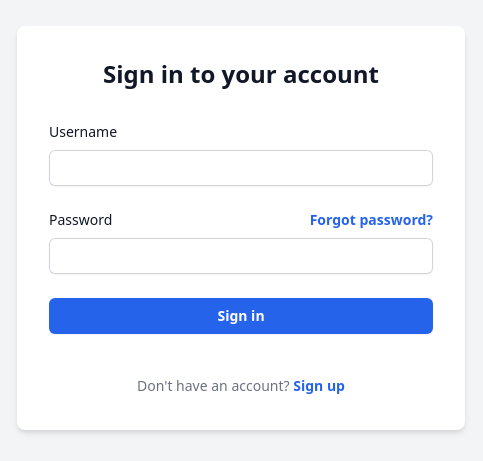
SignIn Component › should show an error message when sign in fails
The width and height of the screenshot is (483, 461).
Type "wronguser" into the field labelled "Username".
click(241, 168); type("wronguser")  # box [49, 150, 433, 186]
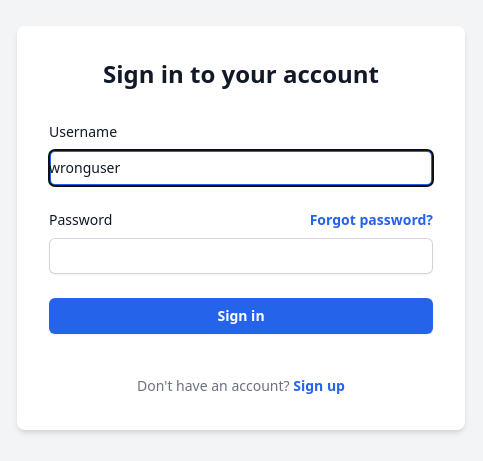
Type "wrongpassword" into the password field labelled "Password".
click(241, 256); type("wrongpassword")  # box [49, 238, 433, 274]
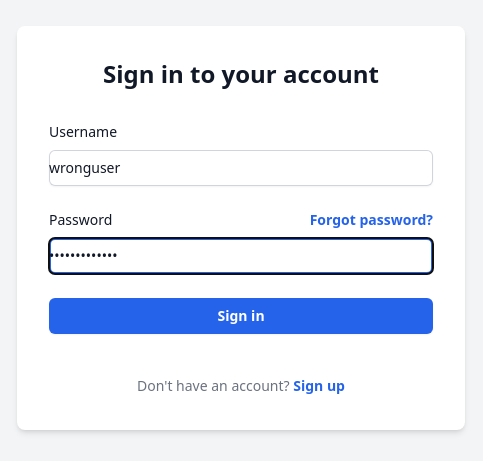
Click the button "Sign in".
click(241, 316)  # box [49, 298, 433, 334]
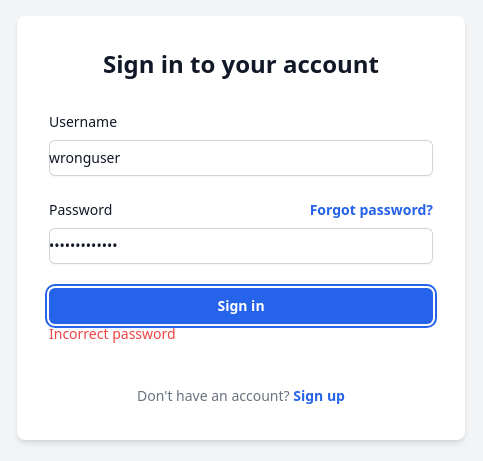
Check: the text "Incorrect password" is shown, box [49, 324, 176, 343]
